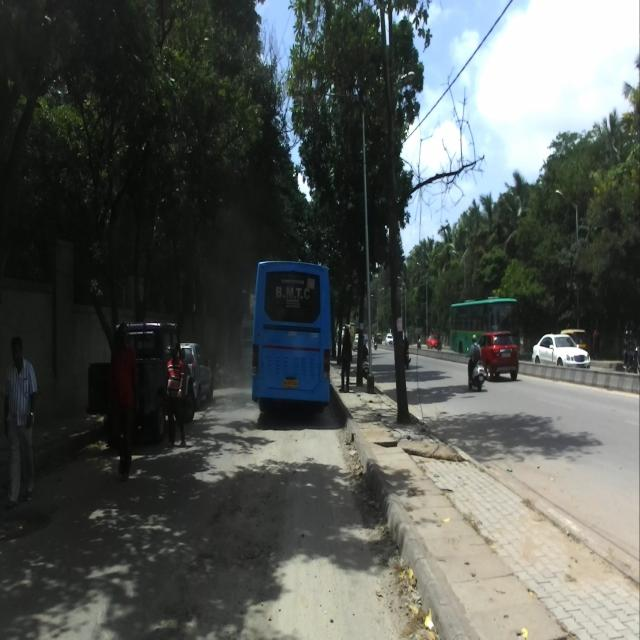bus: (251, 248, 332, 414)
car: (477, 331, 519, 382)
scooter: (468, 350, 484, 390)
